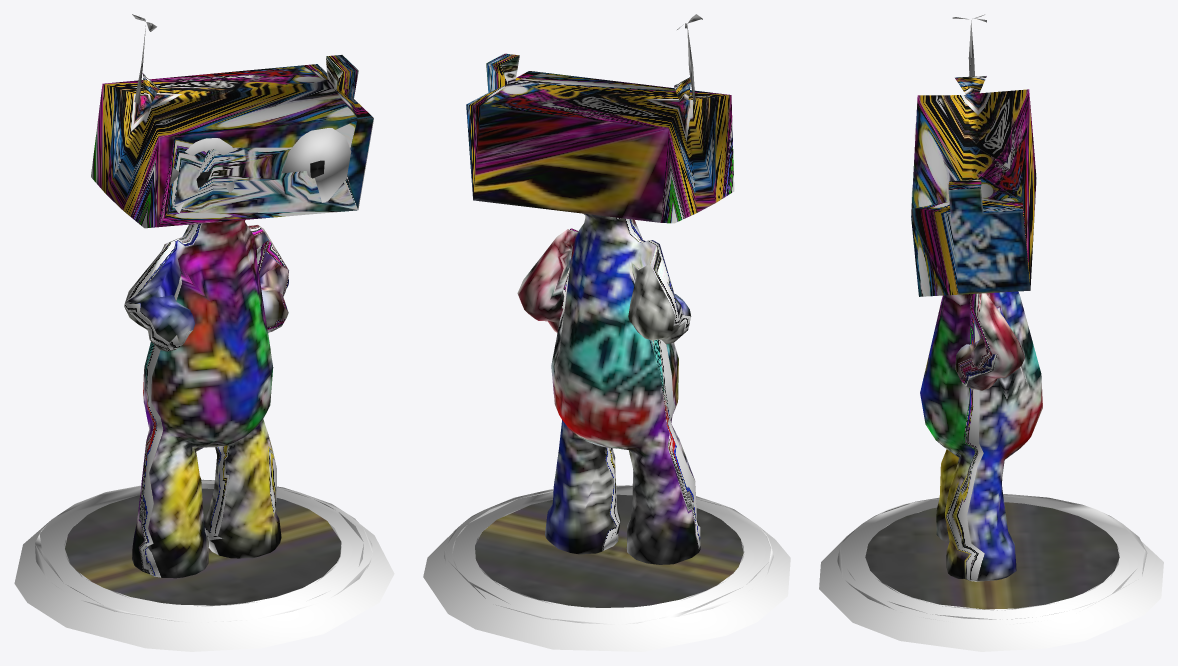
3 views of the same model, side by side, from view 1: azimuth 30°, elevation 25°; view 2: azimuth 150°, elevation 25°; view 3: azimuth 270°, elevation 25° (orthographic). The views are drawn at different scales.
Bounding box in the file's own units: 1.44 × 2.41 × 1.42.
7 materials, 3 textured.
